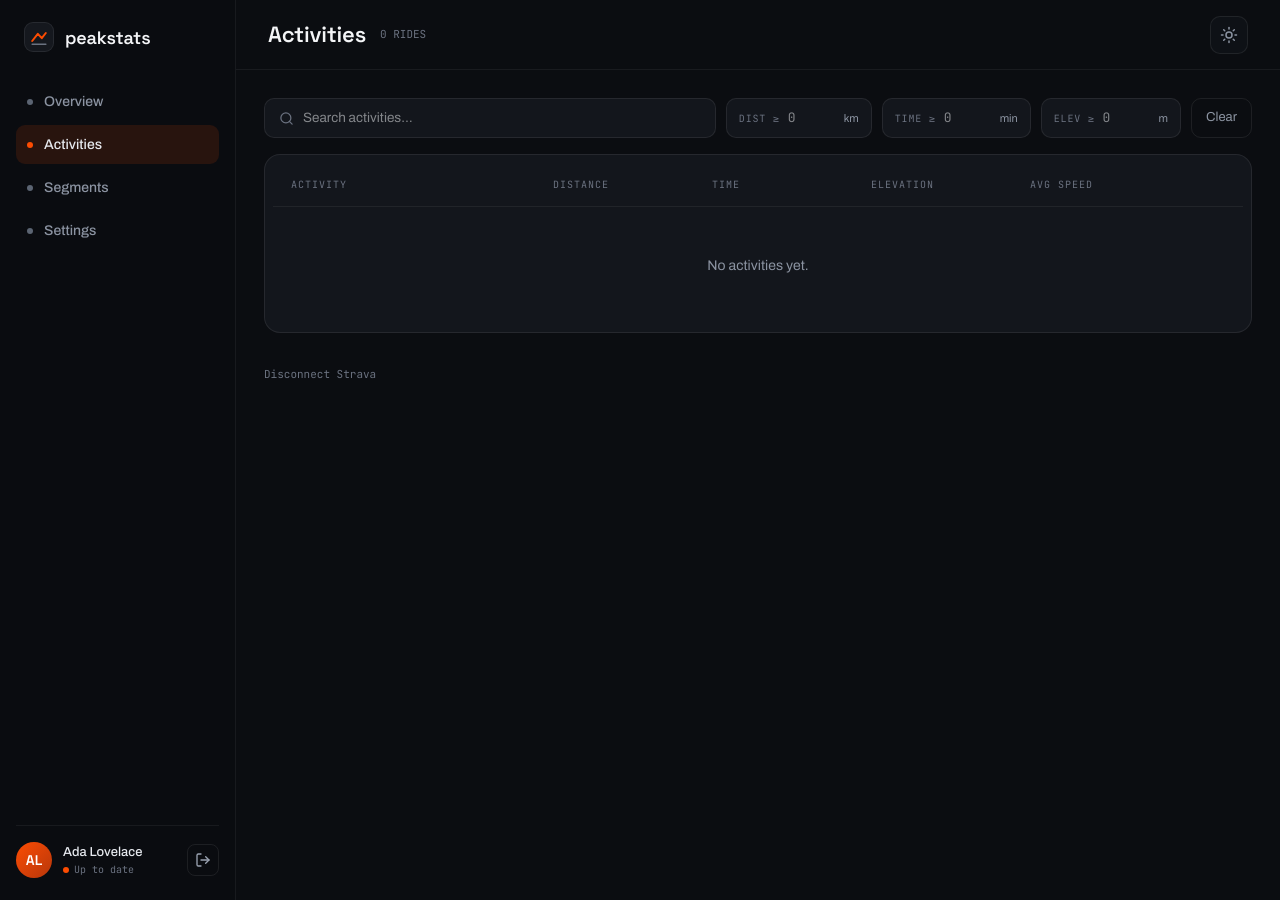
Test: ActivitiesPage › shows the no-match empty state when a filter is set
The image size is (1280, 900).
Type "zzz" into the field labelled "Search activities…" at (502, 118), box [303,108,701,128]
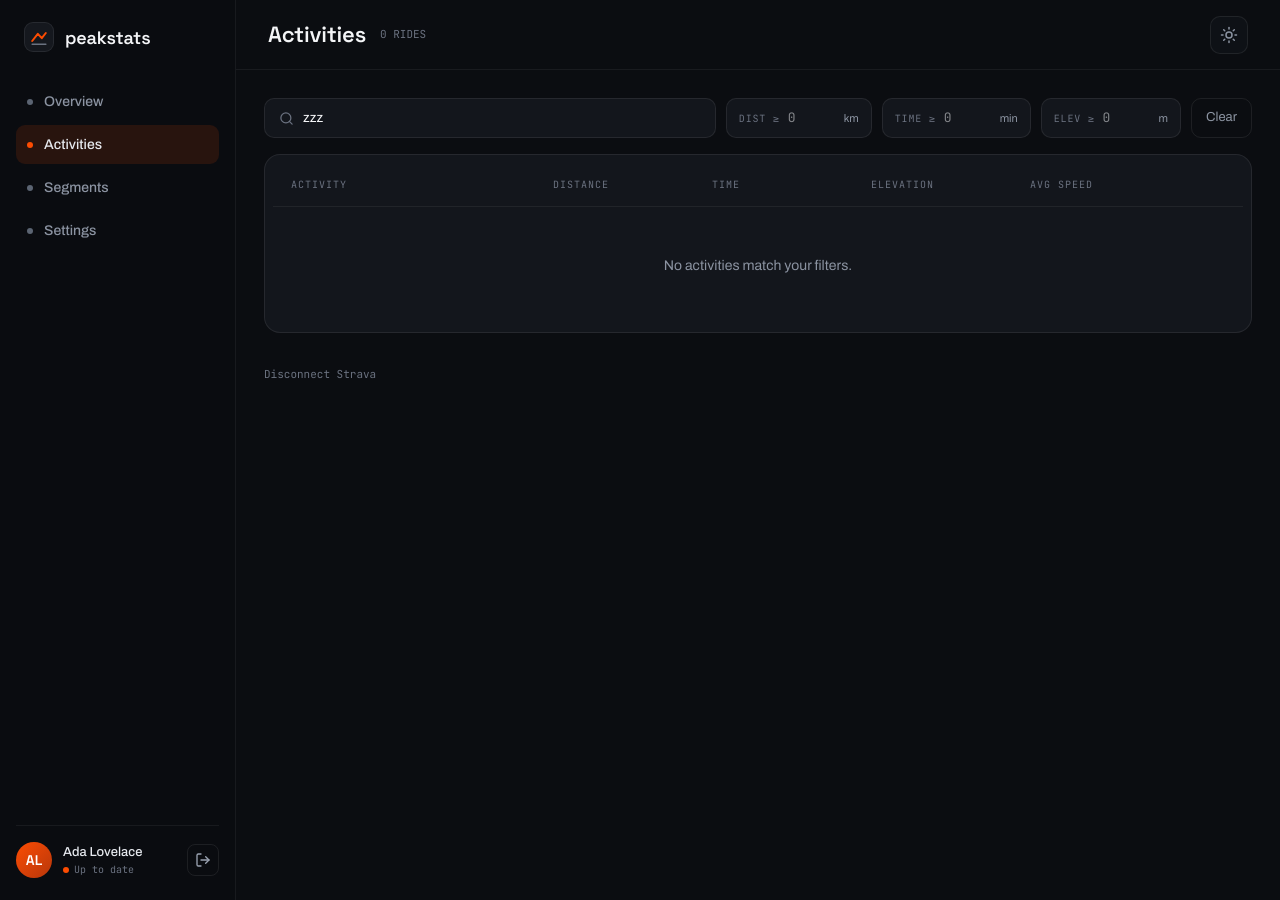
Now the text "No activities match your filters." is shown, box [664,258,852,273]
